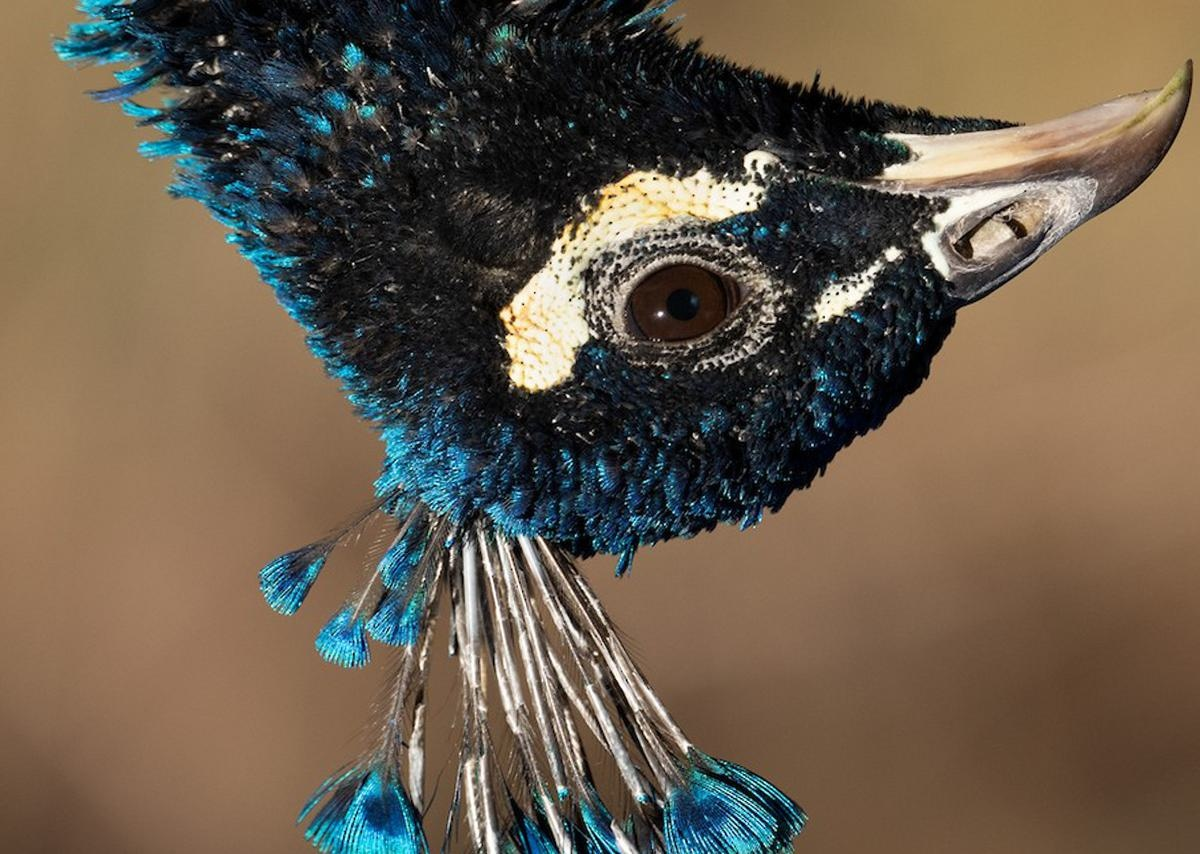peacock: (1, 1, 1127, 743)
